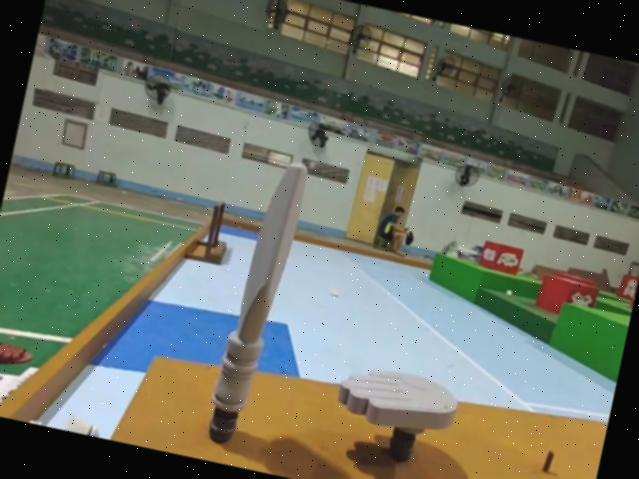Hand: (324, 357, 462, 473)
Sph: (207, 153, 312, 447)
